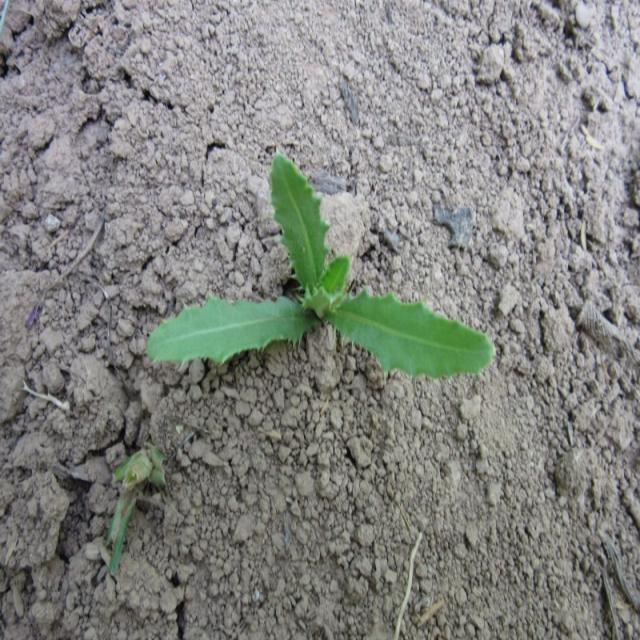field_thistle: (122, 154, 504, 426)
